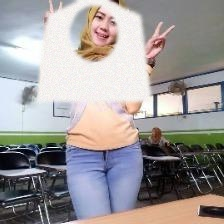Mukena: (35, 0, 152, 101)
